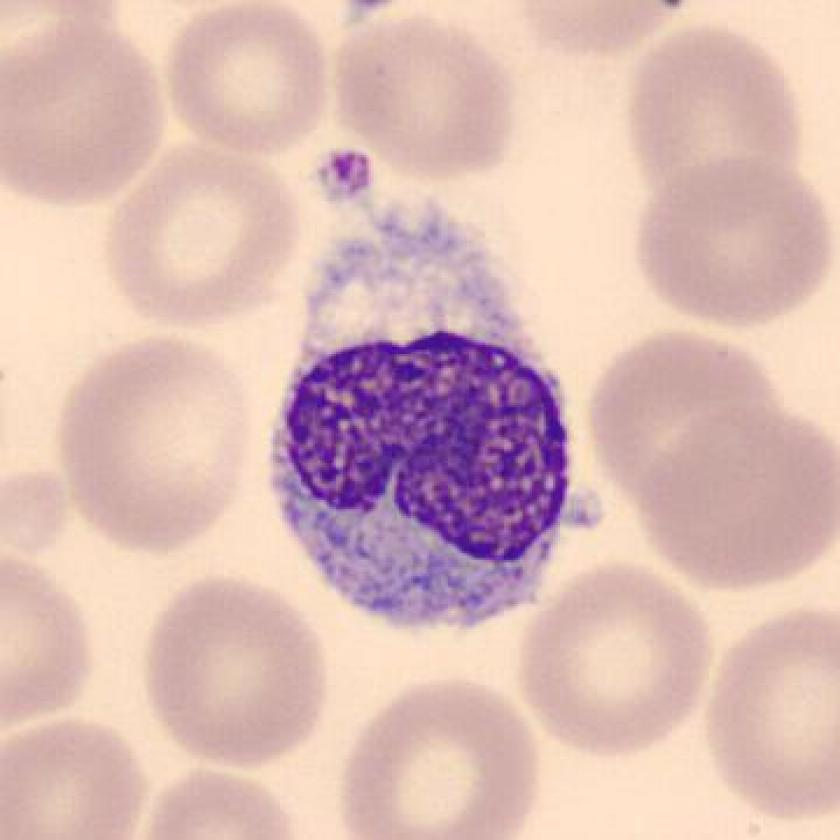monocyte: (253, 196, 612, 659)
